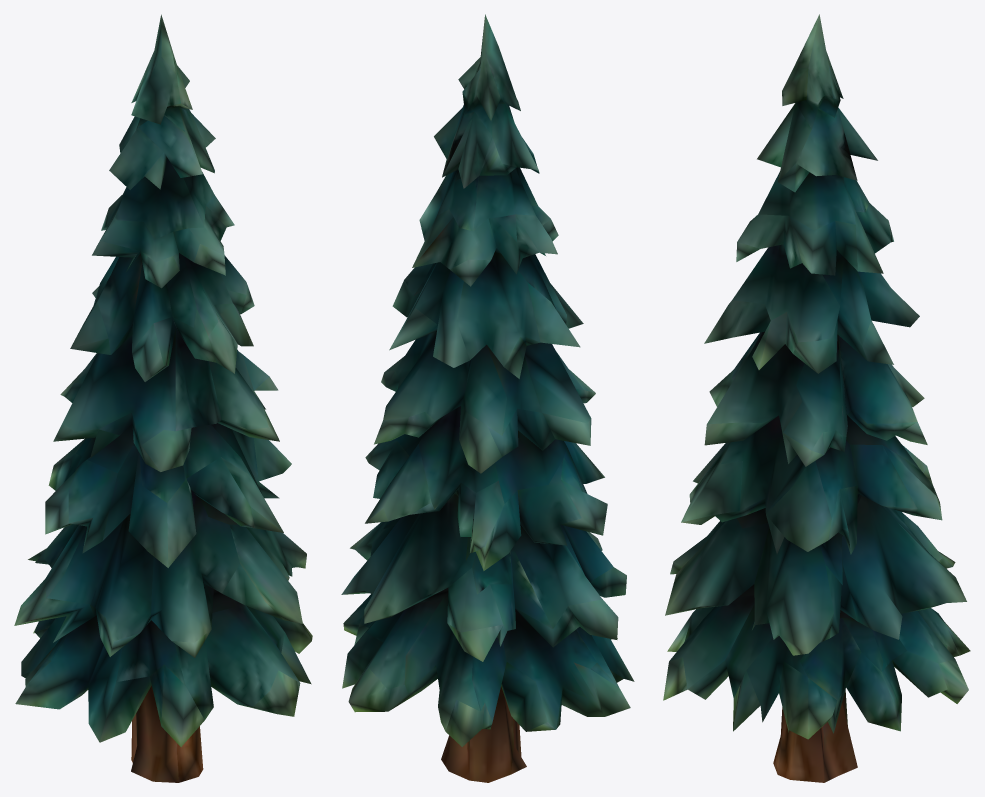
The model's file is tree-fir.glb.
3 views of the same model, side by side, from view 1: azimuth 30°, elevation 25°; view 2: azimuth 150°, elevation 25°; view 3: azimuth 270°, elevation 25° (orthographic).
Parts seen in each view (by area): view 1: tree-fir; view 2: tree-fir; view 3: tree-fir.
Boxes of the visible parts, x1,y1,x2,y2 form: tree-fir: [14, 14, 312, 782]; tree-fir: [341, 14, 634, 782]; tree-fir: [663, 14, 970, 782].
Bounding box in the file's own units: 6.49 × 16 × 5.92.
Materials: 1 (1 with a texture image).
